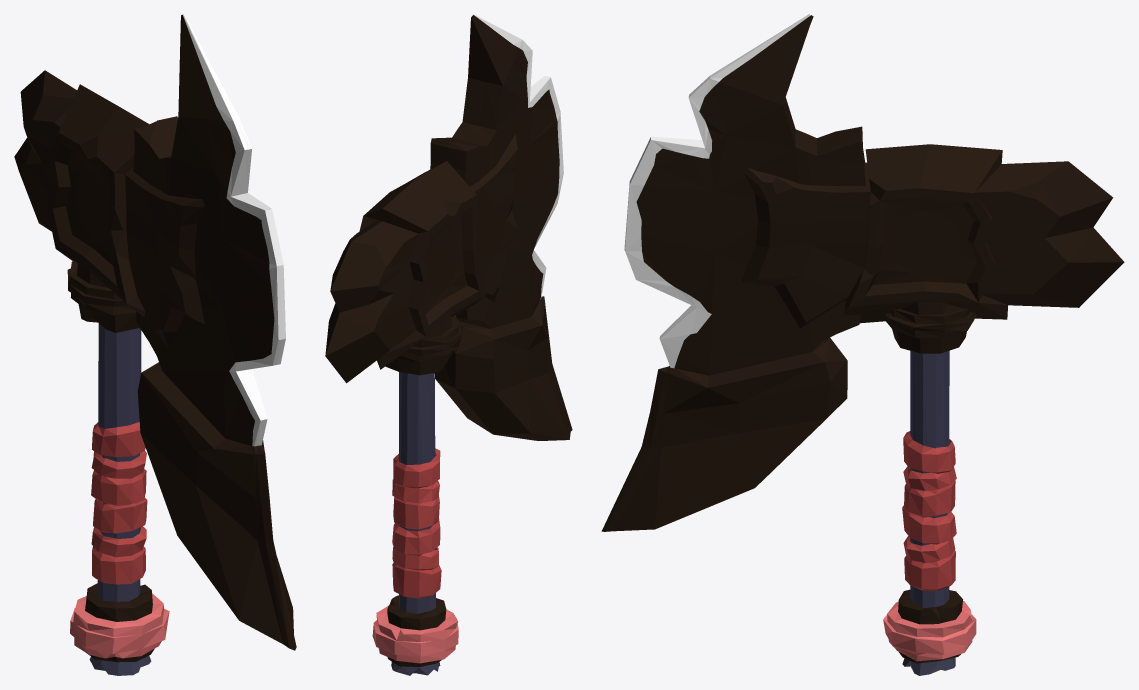
Rendered from SFFA_Axe.fbx.
3 renders of one model, left to right at view 1: azimuth 30°, elevation 25°; view 2: azimuth 150°, elevation 25°; view 3: azimuth 270°, elevation 25°, orthographic. The views are drawn at different scales.
Parts seen in each view (by area): view 1: SFFA_Axe; view 2: SFFA_Axe; view 3: SFFA_Axe.
Part boxes in pixels (x1,y1,x2,y2): SFFA_Axe: (14, 14, 296, 675); SFFA_Axe: (325, 14, 572, 675); SFFA_Axe: (601, 14, 1124, 675).
Size of the model in its own units: 7.73 by 57.99 by 42.27.
